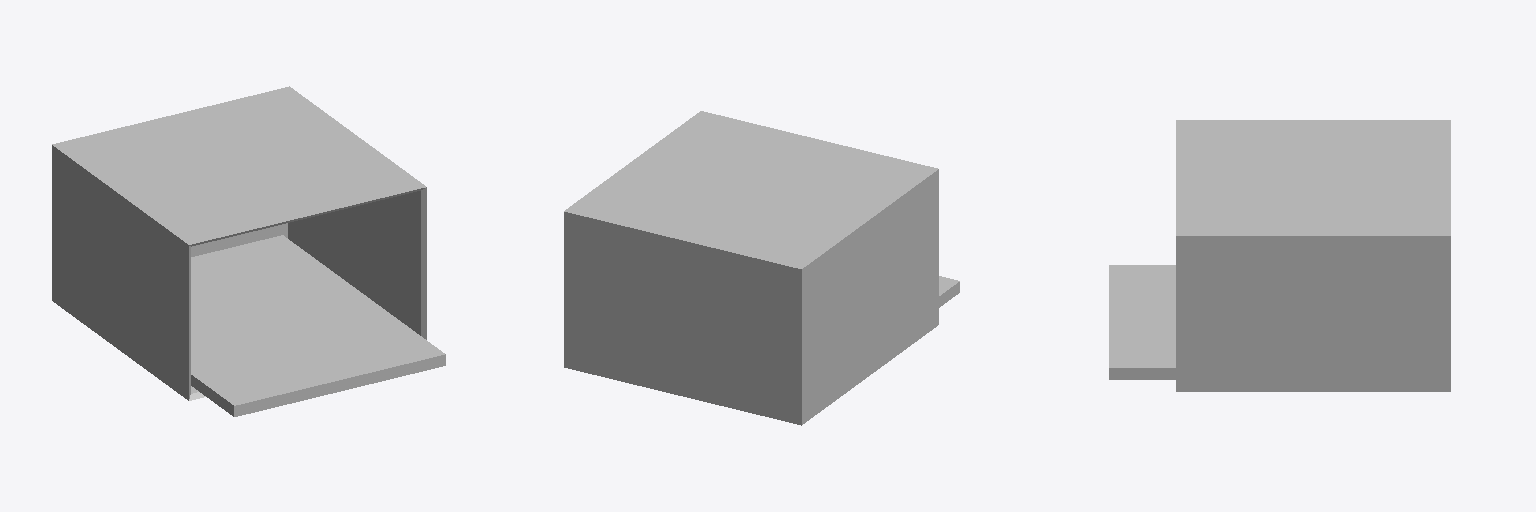
The picture shows the model from 3 angles: view 1: azimuth 30°, elevation 25°; view 2: azimuth 150°, elevation 25°; view 3: azimuth 270°, elevation 25°; orthographic projection.
Parts seen in each view (by area): view 1: stage_2, stage_0, stage_1; view 2: stage_1, stage_2, stage_0; view 3: stage_0, stage_2.
Boxes of the visible parts, <box> form: stage_2: <box>52,86,444,405</box>; stage_0: <box>52,145,420,416</box>; stage_1: <box>189,187,445,416</box>; stage_1: <box>564,212,801,425</box>; stage_2: <box>564,111,959,295</box>; stage_0: <box>802,169,959,424</box>; stage_0: <box>1109,236,1450,391</box>; stage_2: <box>1109,120,1450,367</box>.
Size of the model in its own units: 9.19 by 5.75 by 11.41.